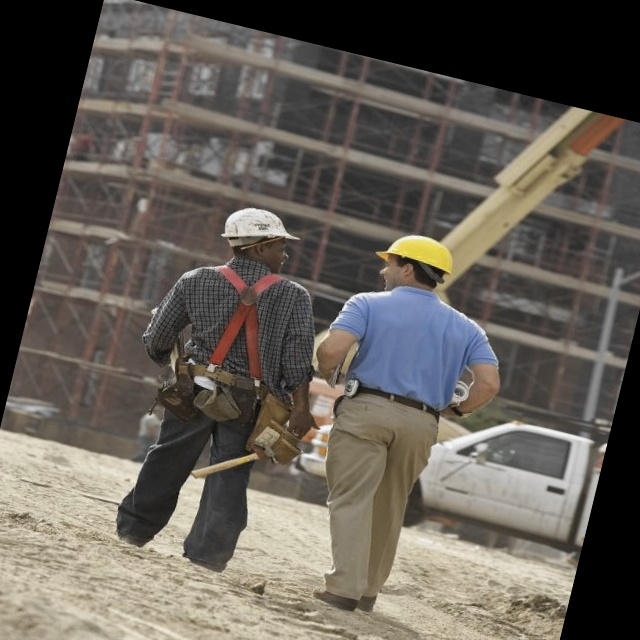Con_Casco: (370, 226, 458, 299), (217, 200, 301, 269)
Sin_Chaleco: (321, 273, 494, 421)
